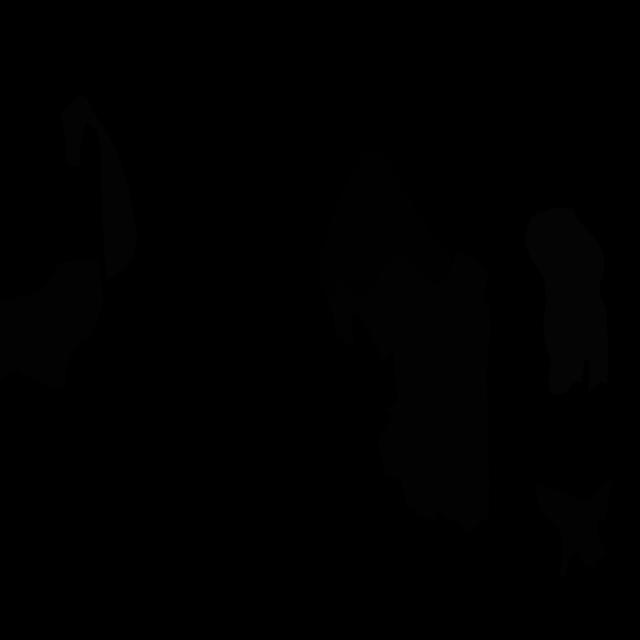cardboard: (327, 251, 491, 532), (0, 259, 103, 391), (535, 474, 613, 577)
metal: (60, 94, 138, 281)
rigid_plastic: (316, 150, 452, 303)
soft_plastic: (525, 207, 608, 395)
